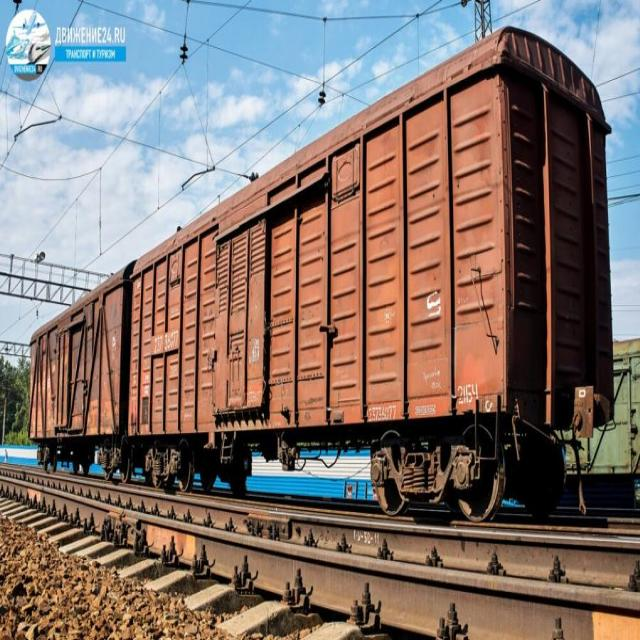boxcar: (128, 16, 621, 542), (26, 254, 134, 497)
